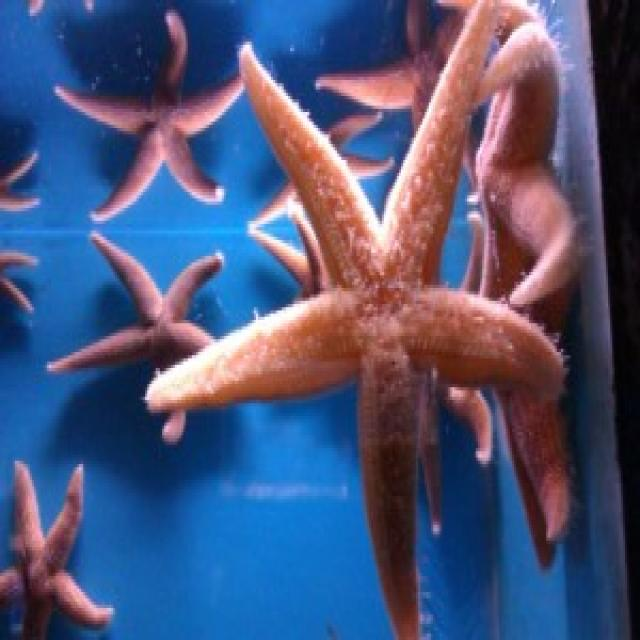Starfish: (147, 18, 571, 636), (52, 7, 245, 220), (46, 230, 228, 442), (471, 8, 594, 312), (2, 440, 117, 640), (314, 3, 465, 133), (0, 240, 41, 314), (0, 150, 43, 216)
